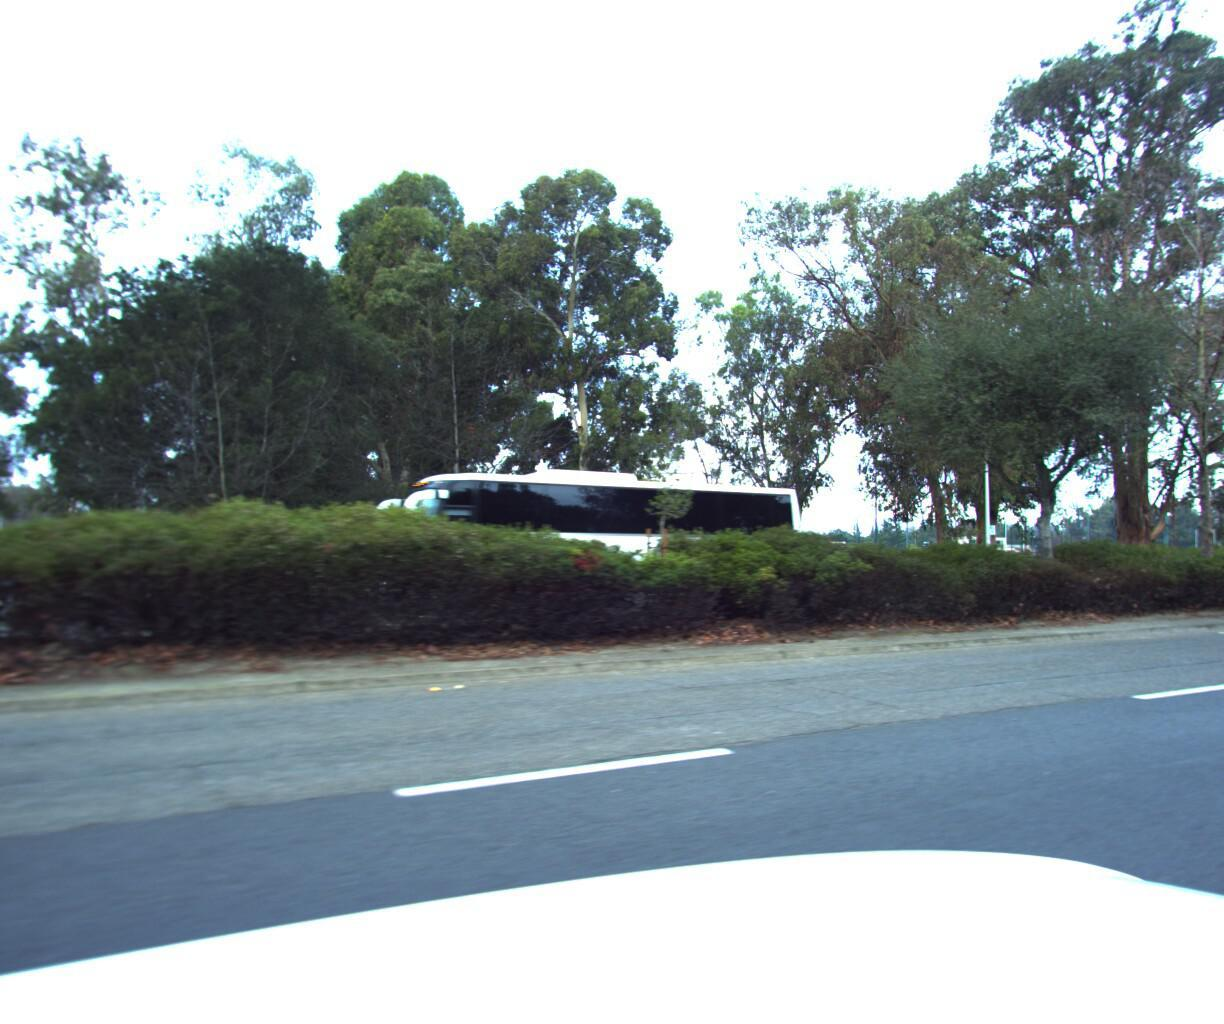truck: (363, 450, 830, 633)
